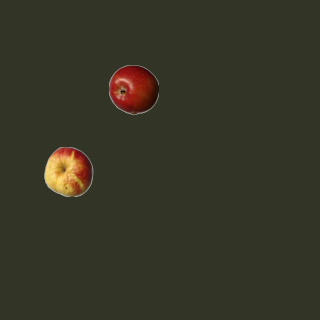Apple Braeburn: (108, 64, 158, 114)
Apple Red Yellow 1: (43, 146, 93, 196)
